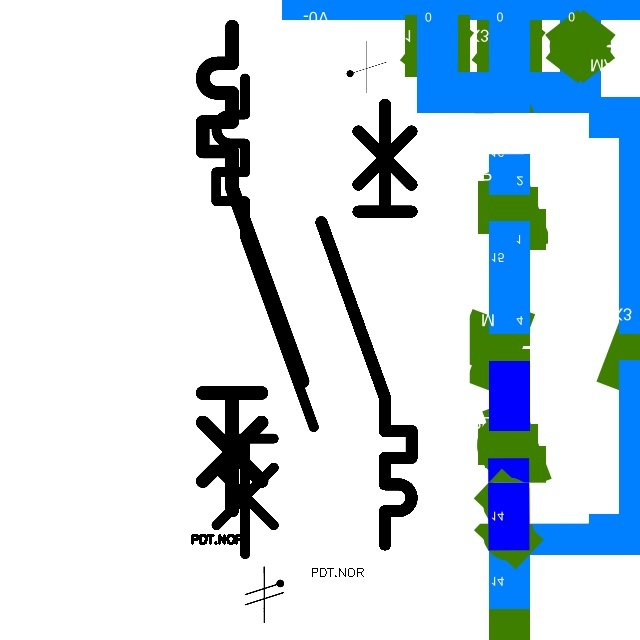interruptor_termomagnetico: (190, 14, 314, 523), (204, 66, 326, 566), (310, 93, 423, 555)
